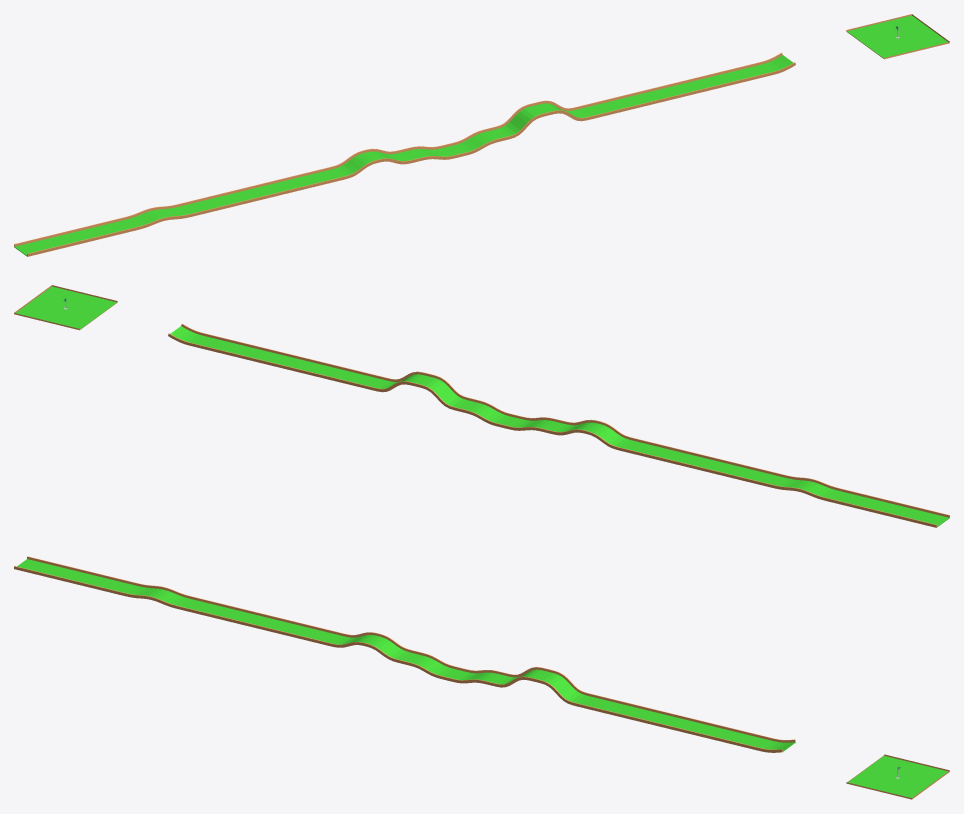
The model's file is m-golf-holes-001.glb.
3 views of the same model, one above another, from view 1: azimuth 30°, elevation 25°; view 2: azimuth 150°, elevation 25°; view 3: azimuth 330°, elevation 25° (orthographic).
Parts seen in each view (by area): view 1: Track_Visual, Green_Visual; view 2: Track_Visual, Green_Visual; view 3: Track_Visual, Green_Visual.
Part boxes in pixels (box(x1,y1,x2,y2)): Track_Visual: box(14, 52, 795, 256); Green_Visual: box(846, 14, 949, 59); Track_Visual: box(168, 323, 949, 527); Green_Visual: box(14, 285, 117, 330); Track_Visual: box(14, 556, 795, 752); Green_Visual: box(846, 754, 949, 799).
Size of what is drawn, in the model's own units: 83 by 2 by 6.
Materials: 6 (1 with a texture image).
